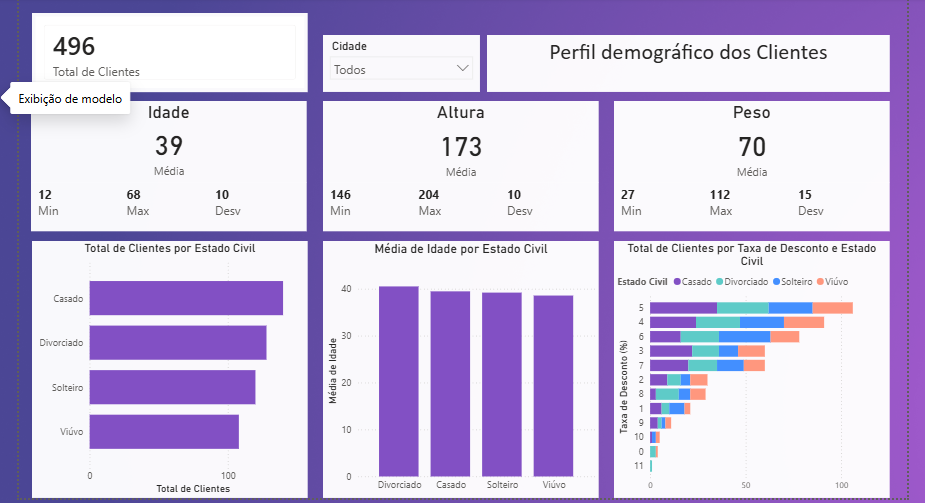

The page's visual inventory and layout, read from the dashboard file:
{"tool":"powerbi","page":{"name":"Perfil demográfico Cliente","canvas":[1280,720],"ordinal":0},"visuals":[{"type":"cardVisual","fields":{"Data":["CountNonNull(Clientes.ID_Cliente)"]},"box":[18.7,21.6,397.4,113.8],"z":0},{"type":"multiRowCard","fields":{"Values":["Min(Clientes.Idade)","Max(Clientes.Idade)","StandardDeviation(Clientes.Idade)"]},"box":[17.3,265,397.4,70.6],"z":1000},{"type":"multiRowCard","fields":{"Values":["Min(Clientes.Peso)","Max(Clientes.Peso)","StandardDeviation(Clientes.Peso)"]},"box":[856.8,265,397.4,70.6],"z":2000},{"type":"multiRowCard","fields":{"Values":["Min(Clientes.Altura)","Max(Clientes.Altura)","StandardDeviation(Clientes.Altura)"]},"box":[437.8,265,397.4,70.6],"z":3000},{"type":"card","title":"Idade","fields":{"Values":["Avg(Clientes.Idade)"]},"box":[17.3,148.3,397.4,116.6],"z":4000},{"type":"card","title":"Altura","fields":{"Values":["Avg(Clientes.Altura)"]},"box":[437.8,148.3,397.4,116.6],"z":5000},{"type":"card","title":"Peso","fields":{"Values":["Avg(Clientes.Peso)"]},"box":[856.8,148.3,397.4,116.6],"z":6000},{"type":"clusteredBarChart","title":"Total de Clientes por Estado Civil","fields":{"Category":["Clientes.Estado Civil"],"Y":["CountNonNull(Clientes.ID_Cliente)"]},"box":[18.7,349.9,397.4,370.1],"z":7000},{"type":"columnChart","fields":{"Category":["Clientes.Estado Civil"],"Y":["Avg(Clientes.Idade)"]},"box":[437.8,349.9,397.4,370.1],"z":8000},{"type":"barChart","title":"Total de Clientes por Taxa de Desconto e Estado Civil","fields":{"Category":["Clientes.Taxa de Desconto"],"Y":["CountNonNull(Clientes.ID_Cliente)"],"Series":["Clientes.Estado Civil"]},"box":[856.8,349.9,397.4,370.1],"z":9000},{"type":"slicer","fields":{"Values":["Clientes.Cidade"]},"box":[437.8,53.3,226.1,82.1],"z":10000},{"type":"textbox","box":[673.9,53.3,580.3,82.1],"z":10001}]}

Visuals, with their boxes in screenshot pixels (x1, y1, x2, y2):
cardVisual - CountNonNull(Clientes.ID_Cliente): pyautogui.locateOnScreen(32, 12, 306, 91)
multiRowCard - Min(Clientes.Idade) x Max(Clientes.Idade): pyautogui.locateOnScreen(31, 180, 305, 229)
multiRowCard - Min(Clientes.Peso) x Max(Clientes.Peso): pyautogui.locateOnScreen(610, 180, 884, 229)
multiRowCard - Min(Clientes.Altura) x Max(Clientes.Altura): pyautogui.locateOnScreen(321, 180, 595, 229)
"Idade" card: pyautogui.locateOnScreen(31, 100, 305, 180)
"Altura" card: pyautogui.locateOnScreen(321, 100, 595, 180)
"Peso" card: pyautogui.locateOnScreen(610, 100, 884, 180)
"Total de Clientes por Estado Civil" clusteredBarChart: pyautogui.locateOnScreen(32, 239, 306, 494)
columnChart - Clientes.Estado Civil x Avg(Clientes.Idade): pyautogui.locateOnScreen(321, 239, 595, 494)
"Total de Clientes por Taxa de Desconto e Estado Civil" barChart: pyautogui.locateOnScreen(610, 239, 884, 494)
slicer - Clientes.Cidade: pyautogui.locateOnScreen(321, 34, 477, 91)
textbox: pyautogui.locateOnScreen(484, 34, 884, 91)
